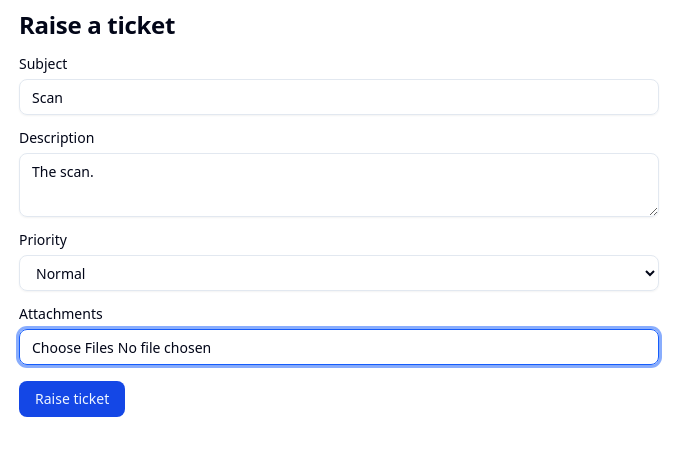
Test: a file the server refuses as too large is shown next to the field
The image size is (679, 465).
Earlier steps of the test are not shown.
What coordinates should you click on to do the following:
click the button "Raise ticket"
I would click on:
 (72, 399)
Its box is [19,381,125,417].
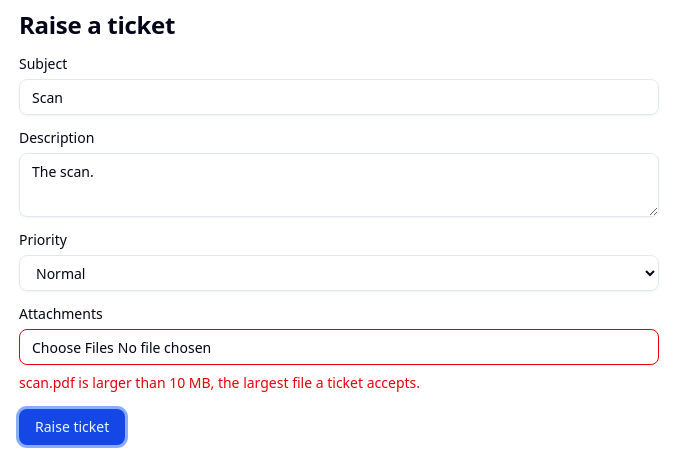
expect the message reads "scan.pdf is larger than 10 MB, the largest file a ticket accepts.": met, box [19,373,420,392]
